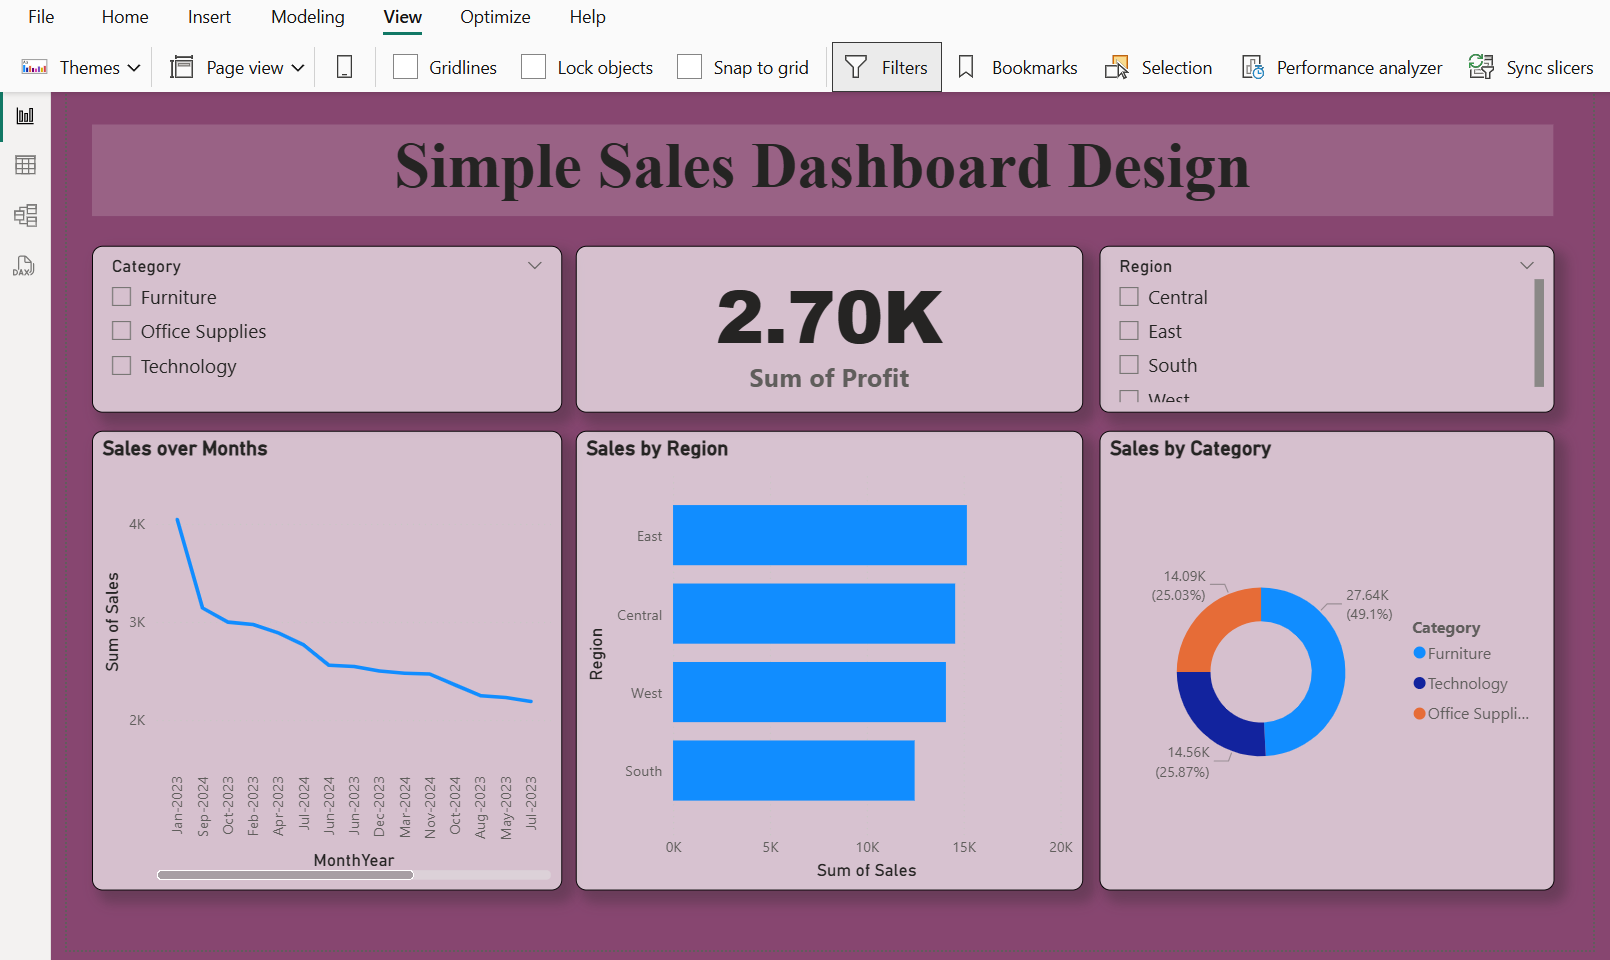

What the dashboard file says about the page in this screenshot:
{"tool":"powerbi","page":{"name":"Page 1","canvas":[1280,720],"ordinal":0},"visuals":[{"type":"lineChart","title":"Sales over Months","fields":{"Category":["Superstore_Sales.MonthYear"],"Y":["Sum(Superstore_Sales.Sales)"]},"box":[21.4,284.3,394.3,385.7],"z":0},{"type":"clusteredBarChart","title":"Sales by Region","fields":{"Y":["Sum(Superstore_Sales.Sales)"],"Category":["Superstore_Sales.Region"]},"box":[427.1,284.3,425.7,385.7],"z":1000},{"type":"donutChart","title":"Sales by Category","fields":{"Y":["Sum(Superstore_Sales.Sales)"],"Category":["Superstore_Sales.Category"]},"box":[865.7,284.3,381.4,385.7],"z":2000},{"type":"slicer","fields":{"Values":["Superstore_Sales.Category"]},"box":[21.4,128.6,394.3,140],"z":3000},{"type":"slicer","fields":{"Values":["Superstore_Sales.Region"]},"box":[865.7,128.6,381.4,140],"z":4000},{"type":"textbox","box":[21.4,27.1,1225.7,77.1],"z":5000},{"type":"card","fields":{"Values":["Sum(Superstore_Sales.Profit)"]},"box":[427.1,128.6,425.7,140],"z":5001}]}

Visuals, with their boxes in screenshot pixels (x1, y1, x2, y2):
"Sales over Months" lineChart: <bbox>84, 428, 556, 890</bbox>
"Sales by Region" clusteredBarChart: <bbox>570, 428, 1079, 890</bbox>
"Sales by Category" donutChart: <bbox>1094, 428, 1551, 890</bbox>
slicer - Superstore_Sales.Category: <bbox>84, 242, 556, 409</bbox>
slicer - Superstore_Sales.Region: <bbox>1094, 242, 1551, 409</bbox>
textbox: <bbox>84, 120, 1551, 213</bbox>
card - Sum(Superstore_Sales.Profit): <bbox>570, 242, 1079, 409</bbox>
